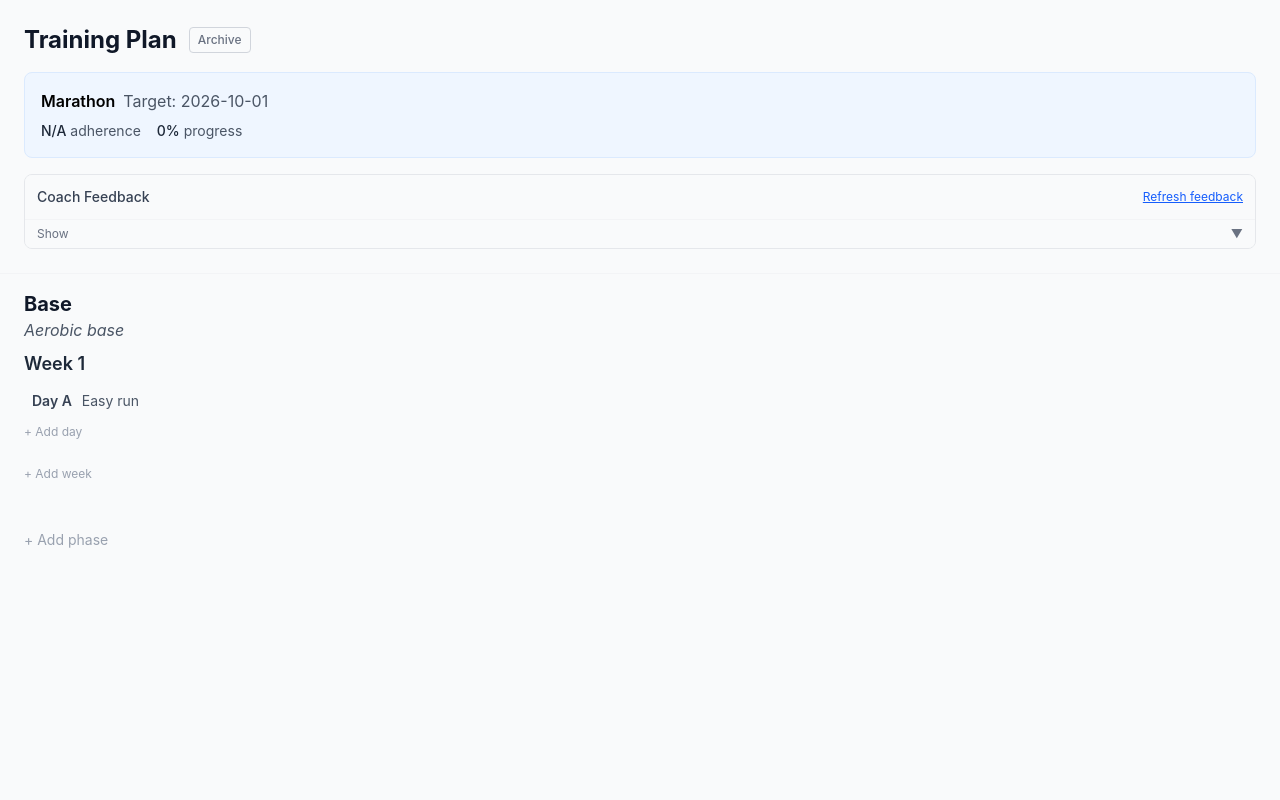
TrainingPlan — UX-COACHING-02: Coach Feedback panel non-expandable when no feedback › toggle button changes between Show and Hide on click
This screenshot has width=1280, height=800.
Click the text "Show" at (53, 234), box [37,226,69,242]
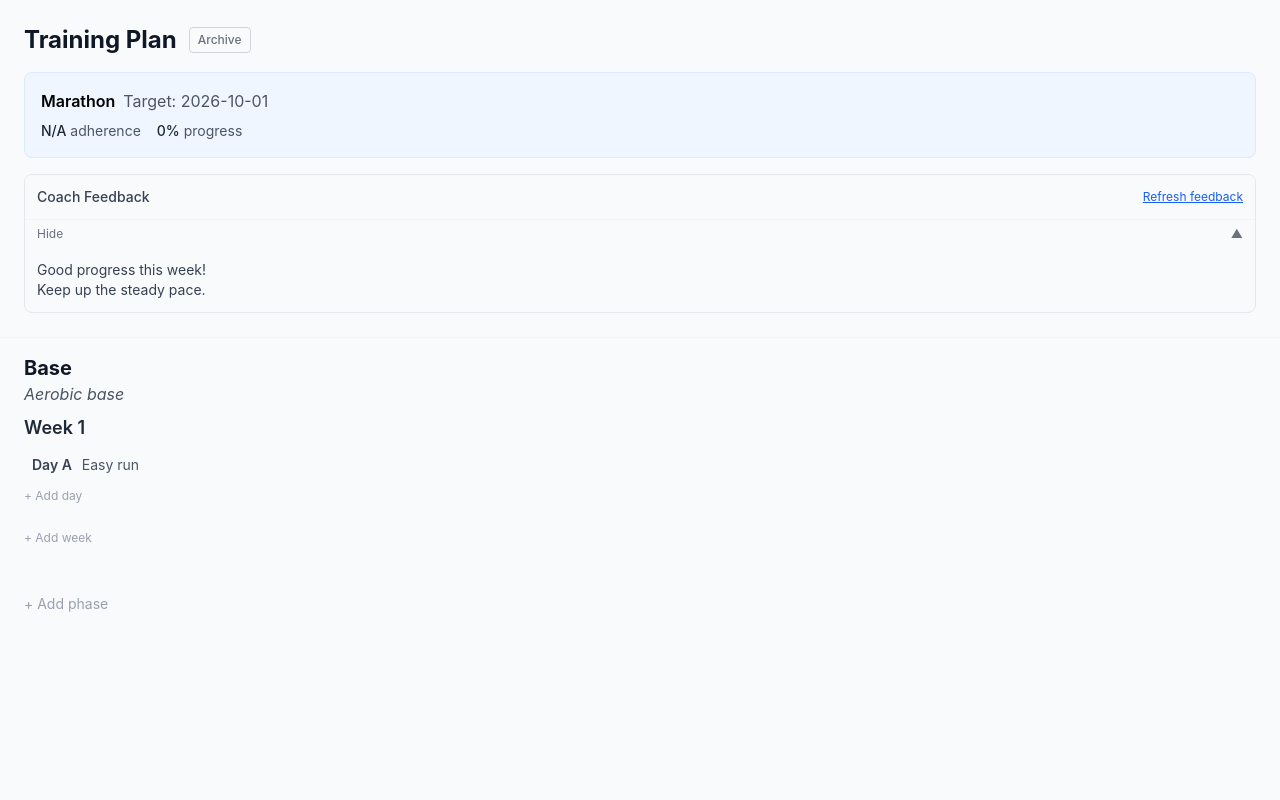
Expected: the text "Hide" is shown
# Click again to hide
Click the text "Hide" at (50, 234), box [37,226,63,242]
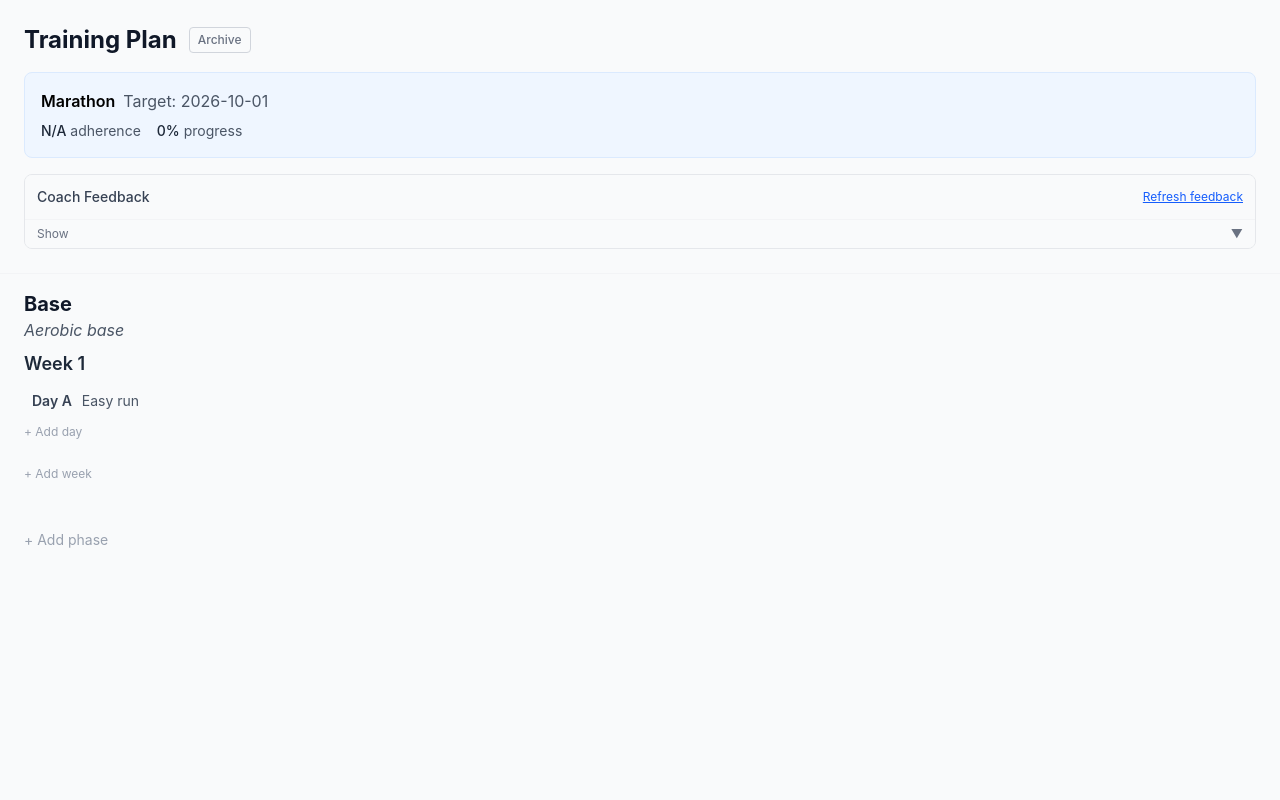
Expected: the text "Show" is shown, [37,226,69,242]
